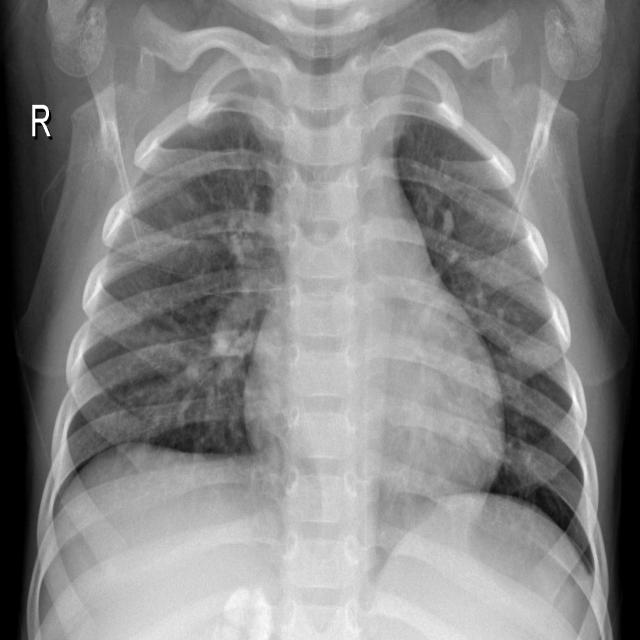no-pneumonia: (396, 115, 597, 573), (65, 101, 282, 472)
